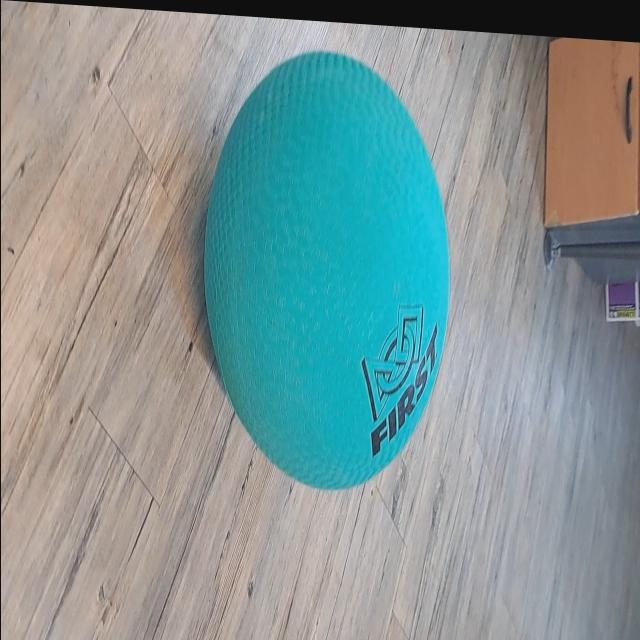ALGAE: (201, 41, 451, 500)
